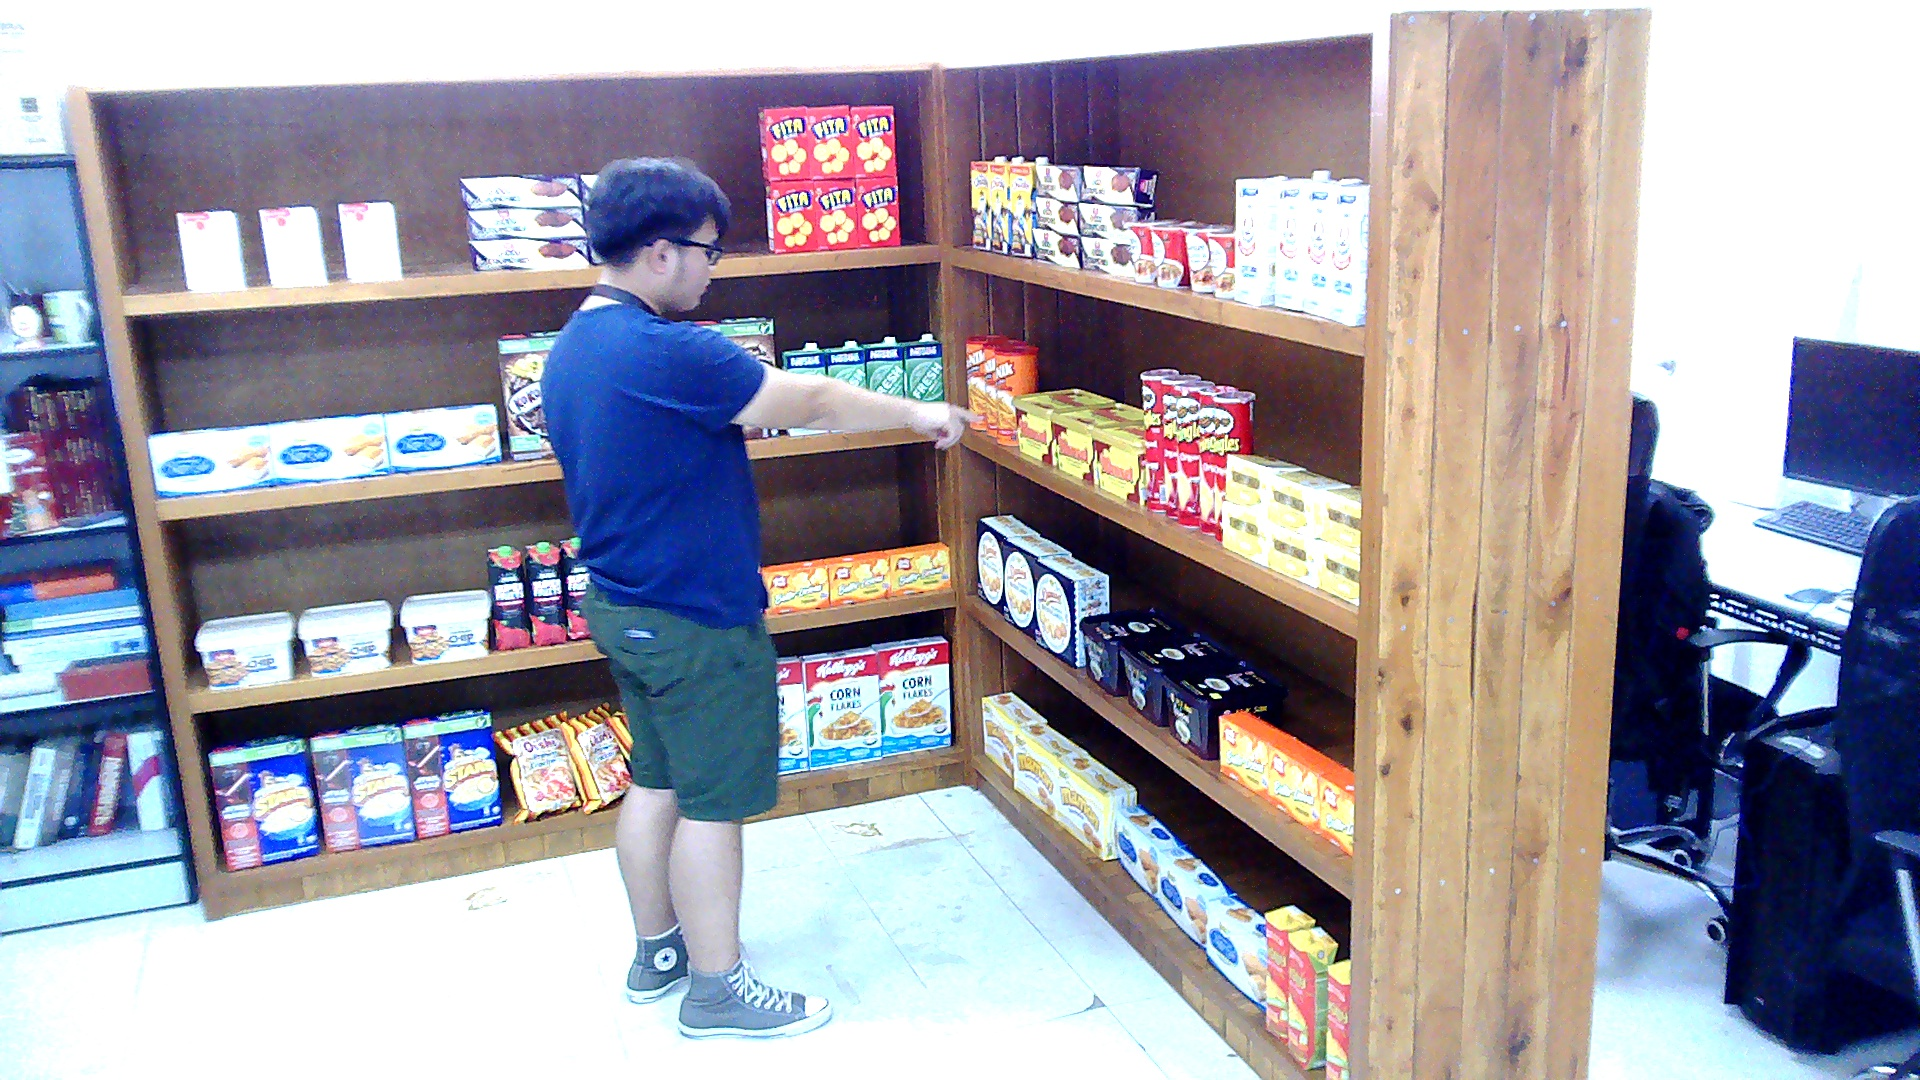Bear brand: (1299, 177, 1362, 314), (1272, 171, 1329, 308), (1233, 173, 1287, 306), (1322, 182, 1367, 324)
Buttercake: (146, 423, 275, 497), (267, 412, 390, 484), (1155, 844, 1233, 950), (384, 400, 501, 470), (1206, 893, 1263, 1010), (1116, 803, 1182, 900)
Butterlicious: (1265, 737, 1340, 834), (1217, 711, 1292, 801), (822, 549, 891, 605), (762, 558, 828, 614), (882, 540, 951, 594), (1317, 765, 1353, 855)
Camomille: (1266, 468, 1350, 538), (1223, 452, 1298, 513), (1265, 519, 1316, 584), (1317, 484, 1359, 554), (1317, 542, 1359, 605), (1221, 503, 1263, 564)
Choco Crunchies: (468, 234, 588, 270), (459, 173, 579, 207), (465, 207, 585, 241), (1076, 164, 1157, 207), (1077, 203, 1155, 241), (1079, 236, 1130, 274), (1032, 228, 1077, 268), (1035, 164, 1077, 200), (1035, 198, 1077, 234)
Chocolate Chips: (192, 609, 294, 690), (297, 596, 393, 675), (398, 588, 491, 664)
Chuckie: (1008, 155, 1050, 256), (987, 155, 1023, 254), (969, 152, 1005, 249)
Danisa: (1035, 553, 1107, 668), (1002, 533, 1071, 639), (975, 512, 1035, 611)
Fita: (756, 104, 810, 180), (765, 180, 816, 252), (807, 106, 855, 178), (812, 180, 857, 248), (854, 177, 899, 245), (852, 104, 894, 176)
Fresh Milk: (896, 333, 941, 401), (861, 337, 903, 396), (822, 339, 864, 386), (780, 342, 825, 374)
Grahams: (1161, 655, 1287, 758), (1119, 629, 1233, 726), (1080, 605, 1188, 695)
Hansel: (1010, 386, 1115, 465), (1050, 402, 1140, 483), (1089, 418, 1143, 504)
Head: (578, 141, 731, 314)
Honey Stars: (206, 729, 323, 871), (308, 719, 413, 852), (399, 704, 501, 839)
Kellogg Corn Flakes: (798, 643, 879, 767), (870, 634, 951, 756), (774, 654, 807, 773)
Kimchi Noodles: (1149, 220, 1203, 288), (1179, 225, 1227, 293), (1125, 220, 1161, 283), (1205, 234, 1232, 299)
Koko Krunch: (495, 329, 558, 459), (692, 315, 773, 364)
Locally Mango: (1287, 925, 1338, 1071), (1263, 904, 1314, 1041), (1326, 958, 1350, 1077)
Mamon: (1053, 754, 1137, 860), (1014, 725, 1086, 819), (981, 689, 1047, 779)
Oishi Prawn: (492, 710, 582, 825), (558, 701, 630, 814)
Pik-nik: (992, 342, 1037, 448), (984, 337, 1029, 438), (962, 332, 1007, 413)
Pringles: (1212, 389, 1254, 542), (1197, 384, 1239, 535), (1161, 374, 1200, 518), (1173, 380, 1212, 526), (1139, 367, 1178, 513)
Super Fruits: (486, 544, 531, 650), (522, 540, 567, 646), (558, 535, 591, 638)
iHop: (174, 212, 243, 288), (258, 207, 324, 283), (335, 200, 398, 279)
